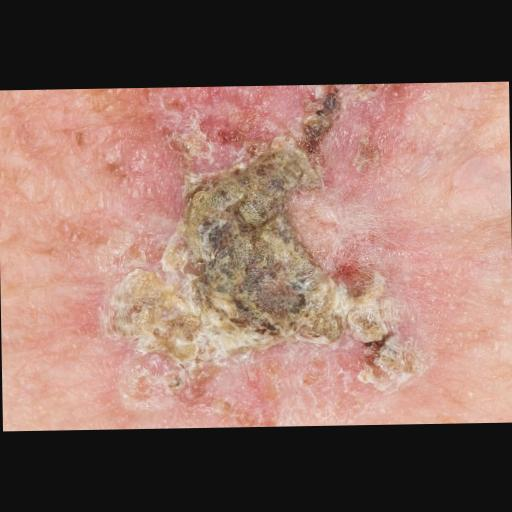Skin_Lesion: (150, 120, 288, 257), (201, 259, 349, 354), (112, 274, 196, 372), (344, 82, 408, 184), (353, 308, 418, 384), (294, 104, 324, 162), (99, 156, 134, 192), (380, 82, 410, 105), (323, 84, 346, 114), (194, 85, 232, 100), (72, 127, 92, 147), (168, 98, 185, 113)
